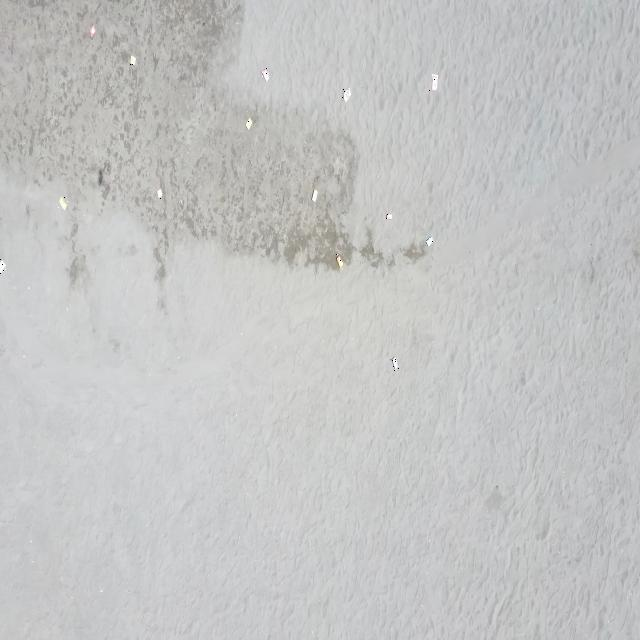Garbage: (335, 252, 343, 268), (57, 196, 67, 208), (430, 74, 437, 89), (342, 88, 350, 101), (88, 24, 95, 36), (260, 68, 267, 80), (244, 119, 252, 128), (128, 55, 135, 64), (392, 356, 396, 371), (0, 259, 4, 272), (156, 188, 161, 198), (384, 212, 391, 219), (427, 237, 432, 246), (313, 188, 316, 201)
